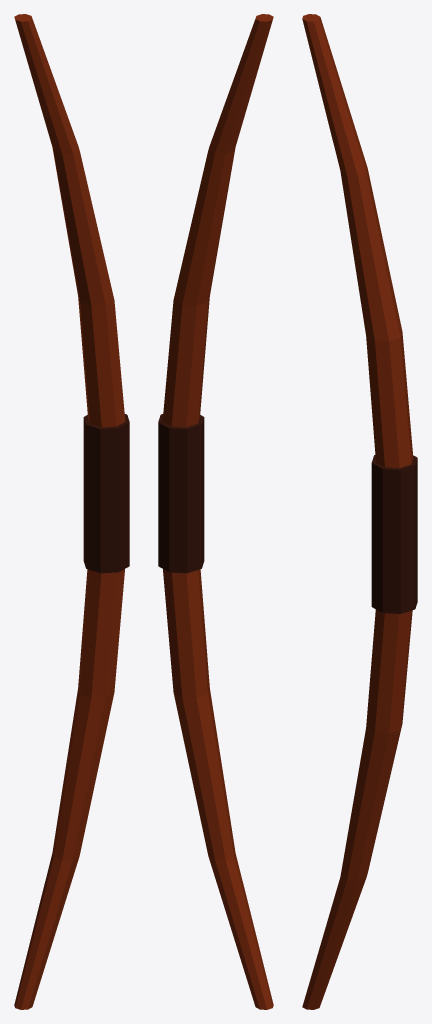
The model's file is Bow.obj.
3 renders of one model, left to right at view 1: azimuth 30°, elevation 25°; view 2: azimuth 150°, elevation 25°; view 3: azimuth 330°, elevation 25°, orthographic.
Visible parts, largest first — view 1: Bow_Cylinder.003; view 2: Bow_Cylinder.003; view 3: Bow_Cylinder.003.
Boxes of the visible parts, x1,y1,x2,y2 form: Bow_Cylinder.003: (14, 14, 129, 1009); Bow_Cylinder.003: (158, 14, 273, 1009); Bow_Cylinder.003: (302, 14, 417, 1009).
Bounding box in the file's own units: 0.2233 × 1.88 × 0.0822.
